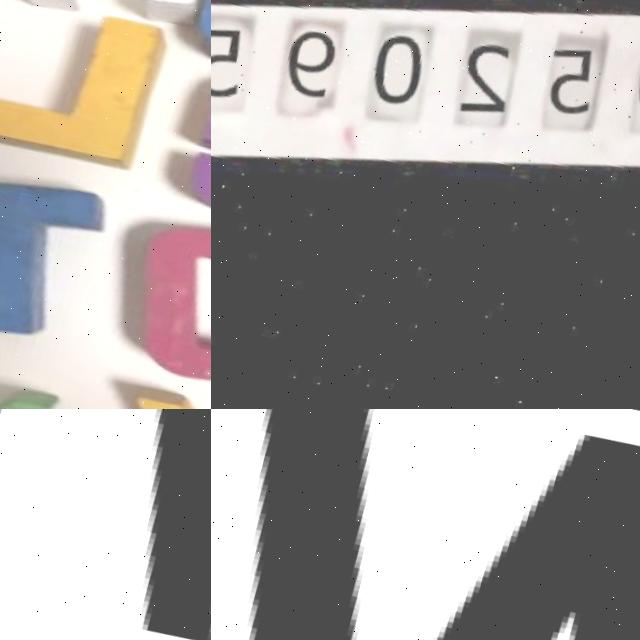0: (354, 13, 452, 131), (620, 34, 640, 146)
2: (440, 19, 541, 142)
5: (533, 28, 625, 141), (211, 4, 274, 123)
9: (266, 5, 365, 126)
H: (0, 0, 211, 38)
L: (0, 0, 178, 175)
N: (211, 409, 640, 640), (0, 409, 211, 640)
O: (103, 204, 211, 409)
T: (0, 149, 111, 357)
